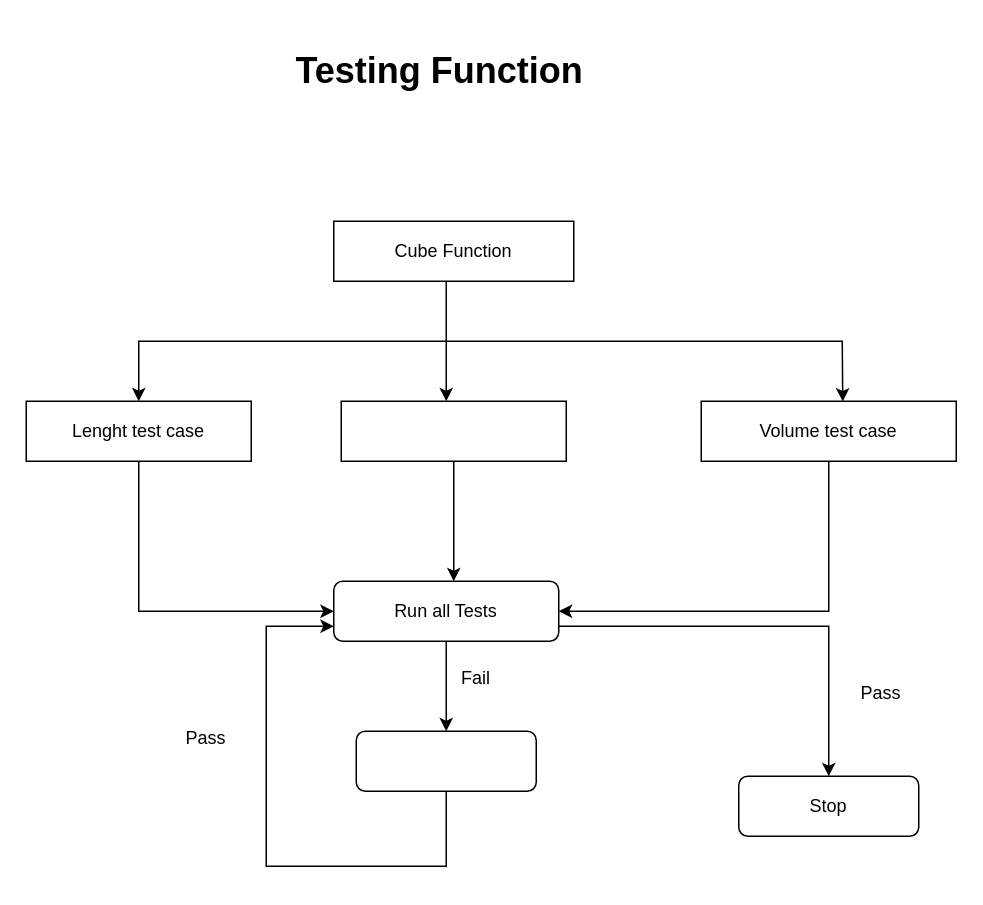
Image size: 983x905. Some labels were removed from this diagram. The shapes that lost their labels are listed below. From the top down, each one's centre as x and y in pixels, then its label:
At (x=453, y=430): "Surface area test case".
At (x=445, y=760): "Make changes".
